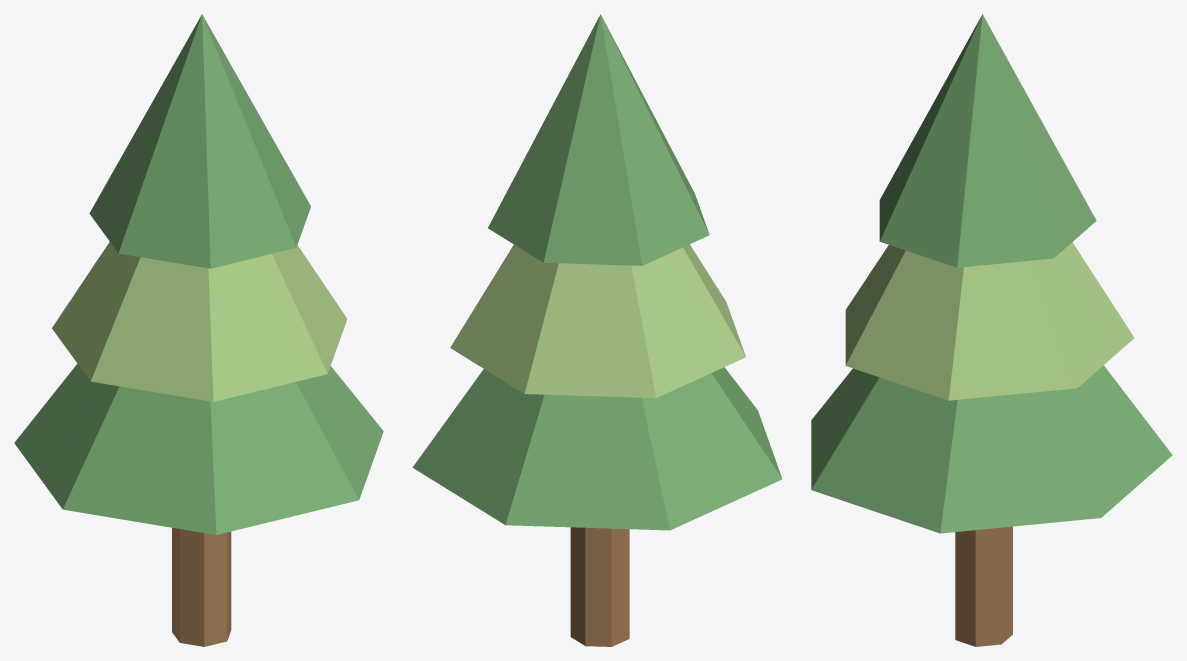
Rendered from tree-pine-Cv0gSpug.glb.
The picture shows the model from 3 angles, left to right: view 1: azimuth 30°, elevation 25°; view 2: azimuth 150°, elevation 25°; view 3: azimuth 270°, elevation 25°; orthographic projection.
Visible parts, largest first — view 1: Pine_Crown_Low, Pine_Crown_Mid, Pine_Crown_Top, Pine_Trunk; view 2: Pine_Crown_Low, Pine_Crown_Mid, Pine_Crown_Top, Pine_Trunk; view 3: Pine_Crown_Low, Pine_Crown_Mid, Pine_Crown_Top, Pine_Trunk.
Part boxes in pixels (<box>): Pine_Crown_Low: <box>14,364,383,534</box>; Pine_Crown_Mid: <box>52,242,347,401</box>; Pine_Crown_Top: <box>89,14,310,268</box>; Pine_Trunk: <box>172,528,231,646</box>; Pine_Crown_Low: <box>412,367,782,530</box>; Pine_Crown_Mid: <box>450,244,745,398</box>; Pine_Crown_Top: <box>488,14,709,265</box>; Pine_Trunk: <box>570,527,629,646</box>; Pine_Crown_Low: <box>811,365,1172,533</box>; Pine_Crown_Mid: <box>845,242,1134,400</box>; Pine_Crown_Top: <box>879,14,1096,267</box>; Pine_Trunk: <box>955,526,1012,646</box>.
Size of the model in its own units: 2.44 by 4.5 by 2.38.
